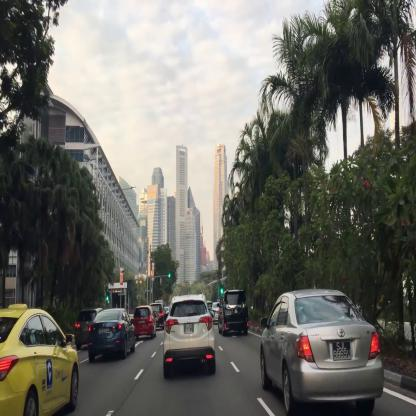green_traffic_light: (168, 274, 173, 278), (106, 291, 108, 300), (221, 285, 223, 292)
